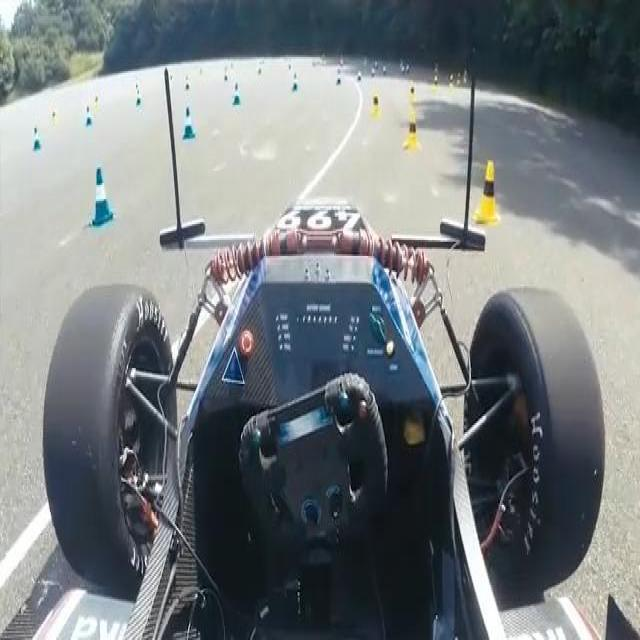blue_cone: (88, 164, 118, 229), (179, 105, 197, 145), (30, 124, 45, 152), (229, 80, 242, 111), (83, 105, 95, 131), (290, 71, 300, 96), (182, 73, 192, 93), (136, 90, 144, 110), (357, 66, 364, 86), (335, 68, 342, 87)
yellow_cone: (474, 153, 500, 231), (402, 109, 420, 152), (369, 87, 383, 121), (407, 80, 419, 106), (447, 71, 455, 96), (50, 107, 59, 129), (431, 73, 440, 94), (93, 92, 101, 111)
